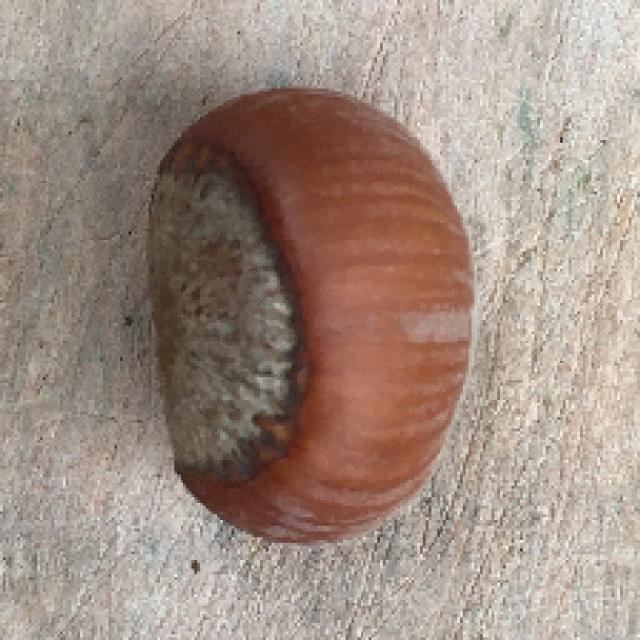qualityHazelnut: (119, 80, 486, 559)
